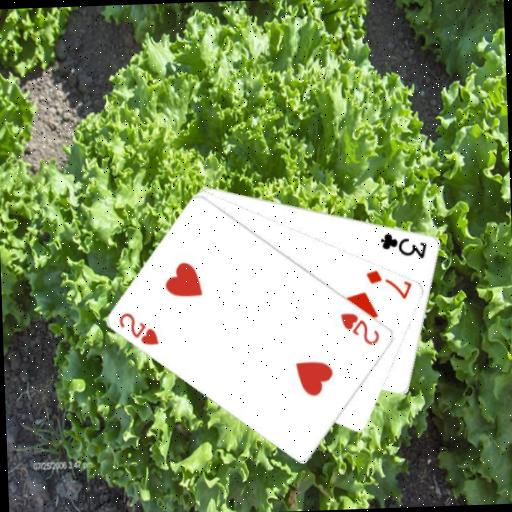2H: (115, 308, 161, 348), (337, 308, 382, 348)
3C: (377, 228, 429, 261)
7D: (363, 265, 413, 302)
